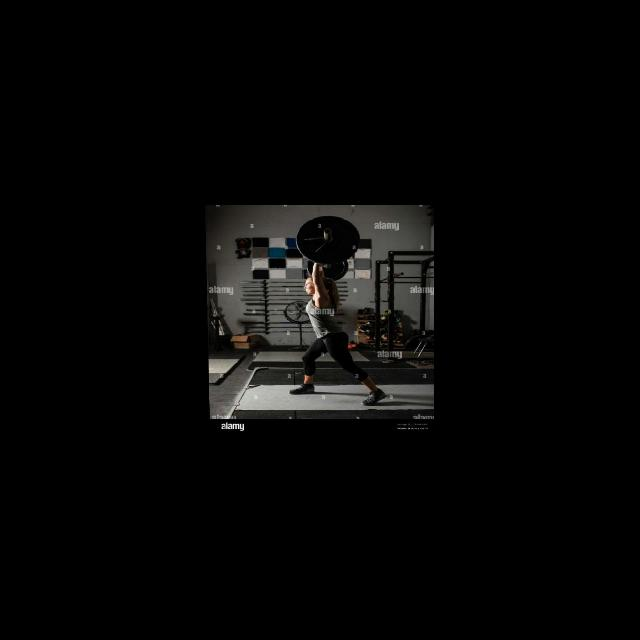barbell: (293, 214, 361, 269)
